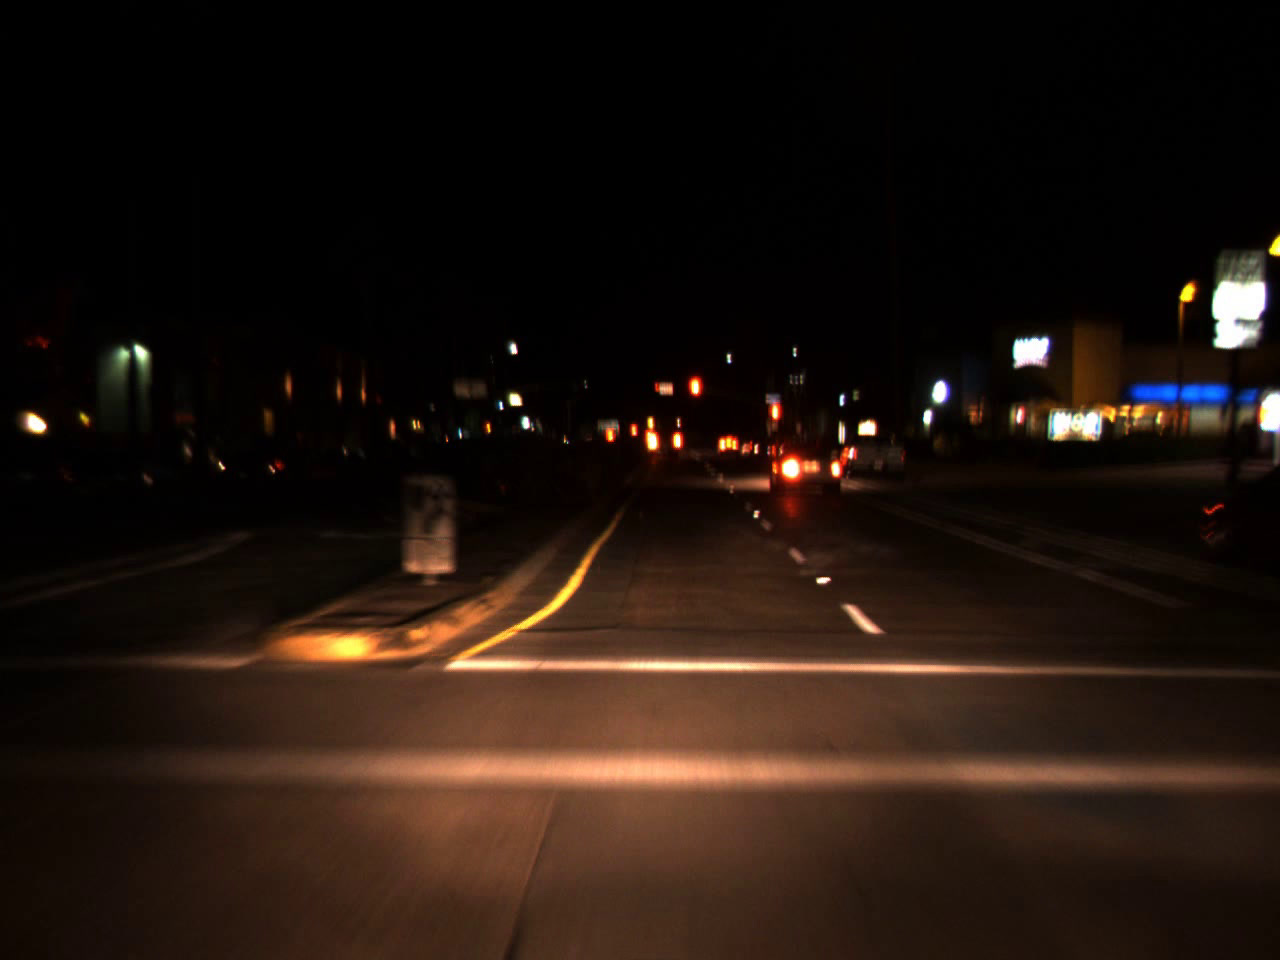stop: (686, 372, 703, 423), (767, 397, 782, 445), (655, 382, 661, 400)
